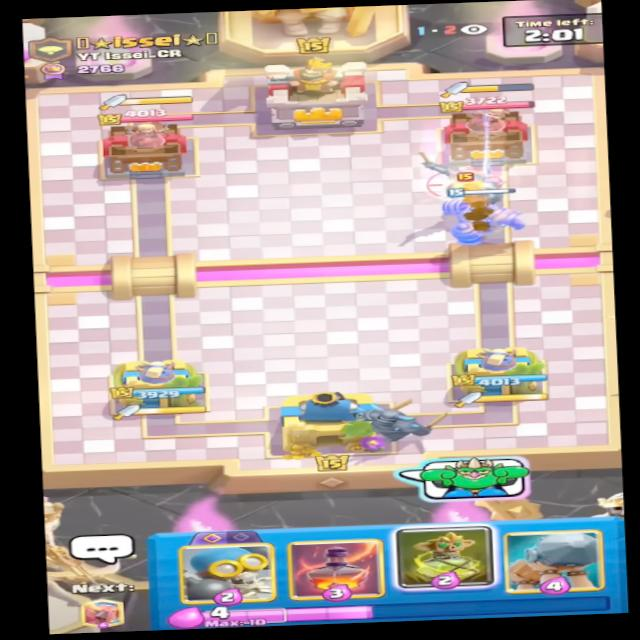pekka: (417, 155, 513, 203)
